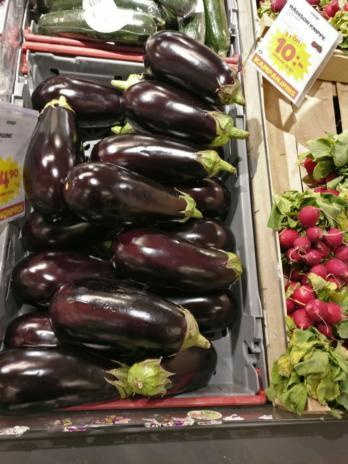Brinjal: (0, 30, 232, 407)
